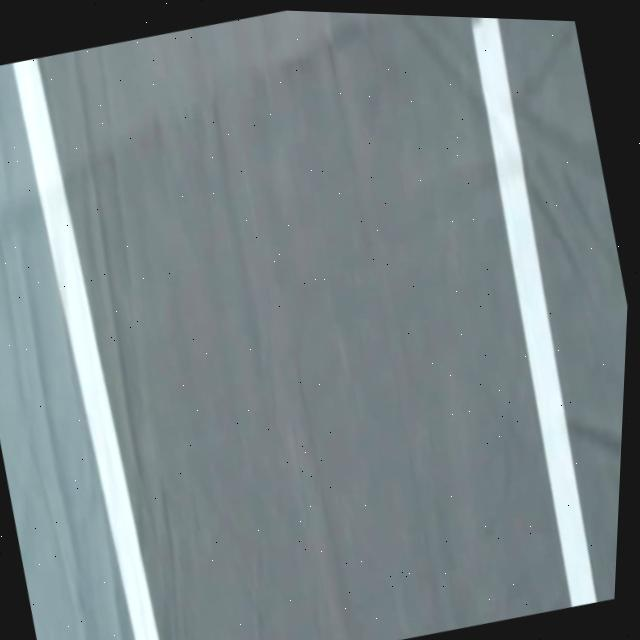center: (470, 17, 597, 607)
left: (12, 58, 158, 640)
